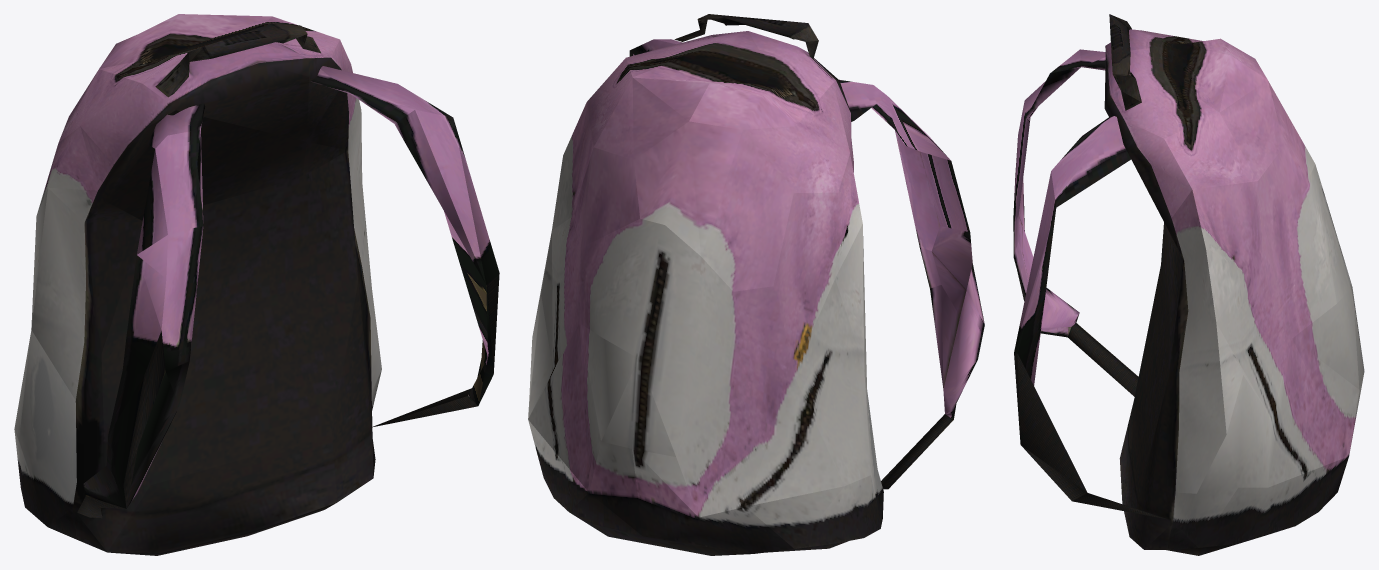
Rendered from Backpack2.FBX.
3 renders of one model, left to right at view 1: azimuth 30°, elevation 25°; view 2: azimuth 150°, elevation 25°; view 3: azimuth 270°, elevation 25°, orthographic. The views are drawn at different scales.
Parts seen in each view (by area): view 1: backpack; view 2: backpack; view 3: backpack.
Boxes of the visible parts, x1=… form: backpack: x1=14, y1=14, x2=499, y2=555; backpack: x1=528, y1=14, x2=984, y2=555; backpack: x1=1013, y1=14, x2=1364, y2=555.
Size of the model in its own units: 12.14 by 14.91 by 10.02.
